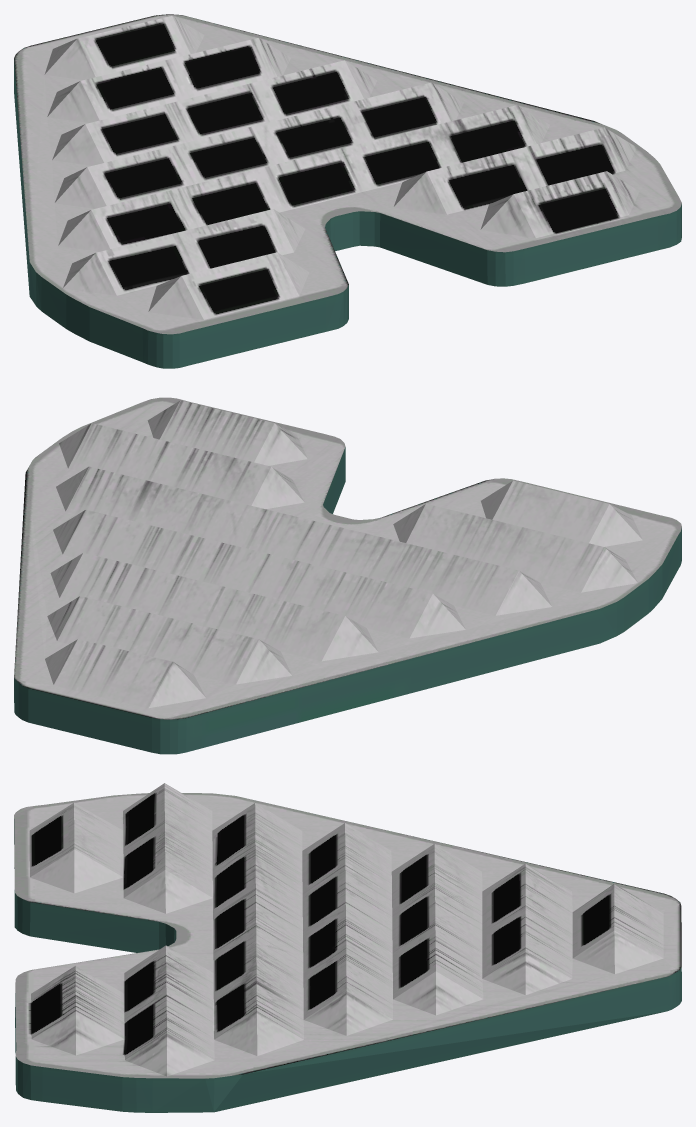
The model's file is speedboost.obj.
3 views of the same model, one above another, from view 1: azimuth 30°, elevation 25°; view 2: azimuth 150°, elevation 25°; view 3: azimuth 270°, elevation 25° (orthographic).
Visible parts, largest first — view 1: nitro_Mesh; view 2: nitro_Mesh; view 3: nitro_Mesh.
Part boxes in pixels (left/top/right/bottom): nitro_Mesh: left=14, top=14, right=681, bottom=368; nitro_Mesh: left=14, top=397, right=681, bottom=754; nitro_Mesh: left=14, top=783, right=681, bottom=1112.
Size of the model in its own units: 4.82 by 0.5012 by 4.77.
